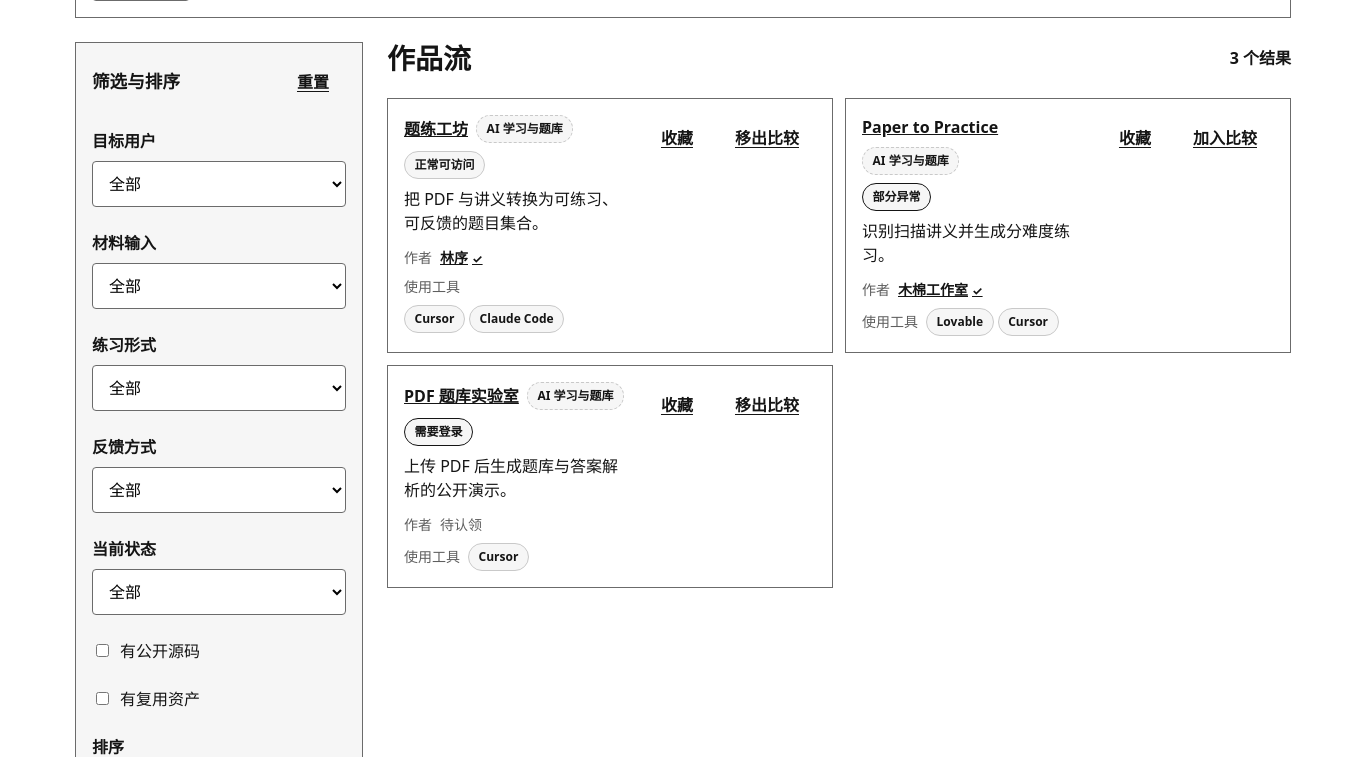
Test: CategoryDetailPage › updates URL filters and result count without losing topic state
(page scrolled)
Expected: the text "3 个结果" is shown, [1230,46,1291,70]
Select "图片" in the dropdown labelled "材料输入": (219, 286) [92,262,346,308]
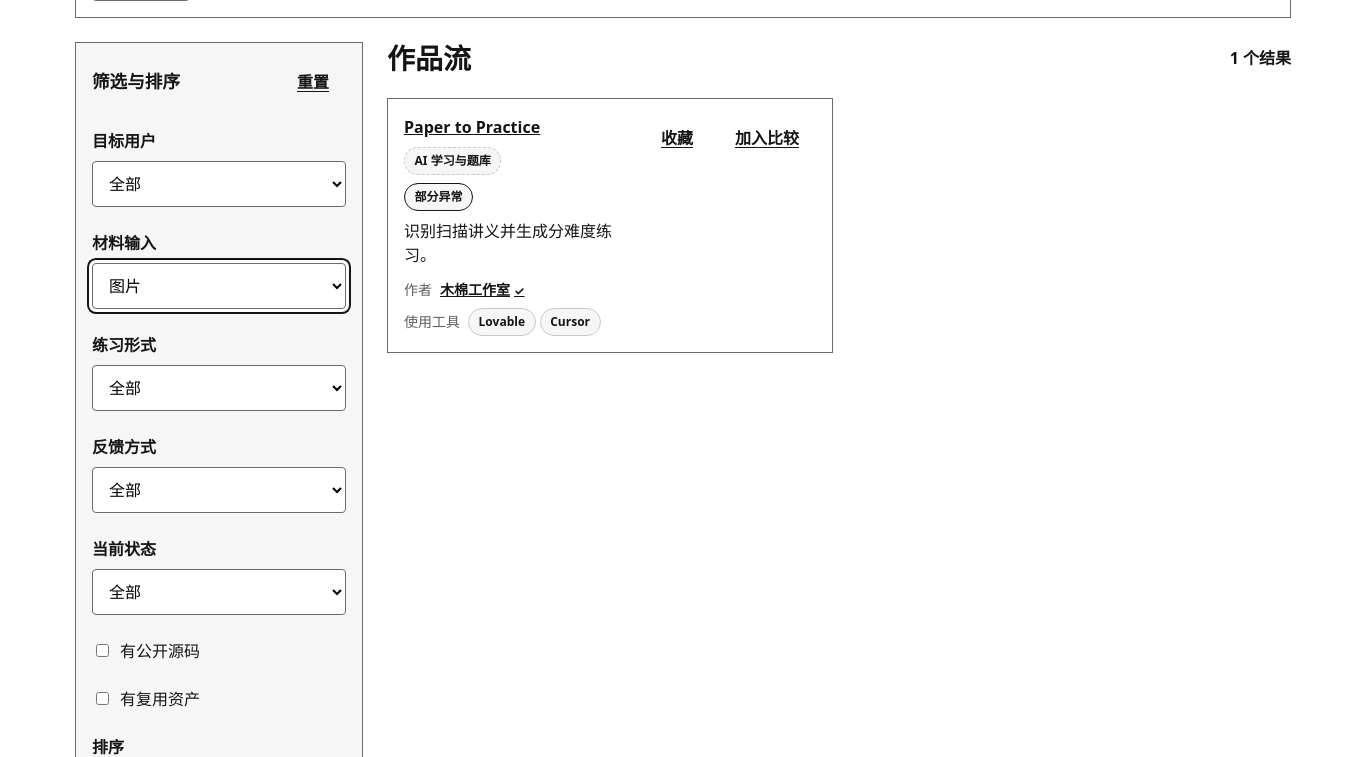
Expected: the link "Paper to Practice" is shown, [404,115,540,139]
Result: the text "1 个结果" is shown at [1230,46,1291,70]
